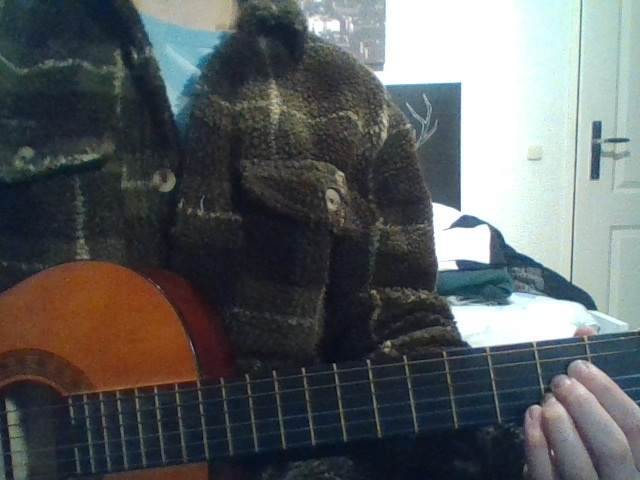A: (498, 341, 640, 480)
